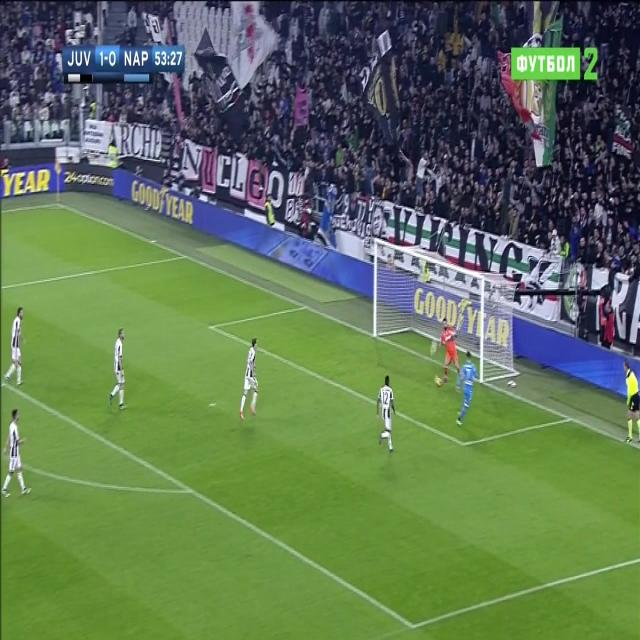Ball: (433, 372, 443, 390)
Goalkeeper: (435, 318, 461, 382)
Player: (2, 407, 30, 503), (455, 349, 481, 428), (5, 303, 27, 387), (238, 336, 258, 425), (375, 375, 397, 452), (108, 327, 128, 411)
Referee: (621, 360, 640, 446)
